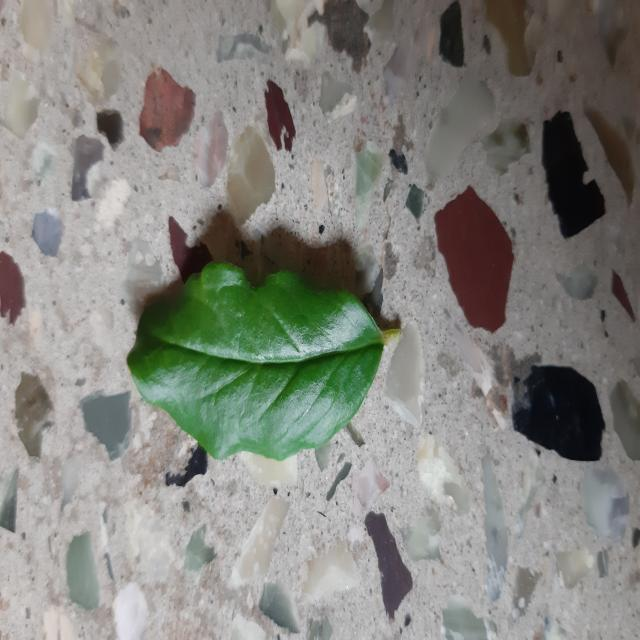leaf: (125, 260, 387, 462)
